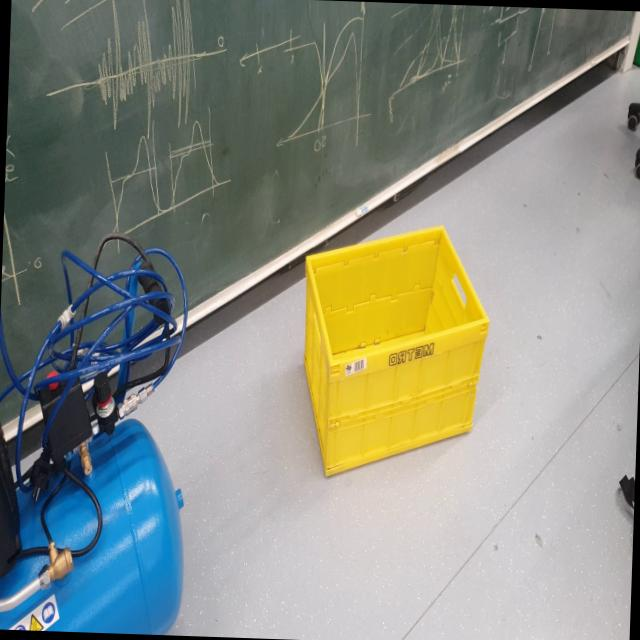box: (289, 200, 504, 498)
